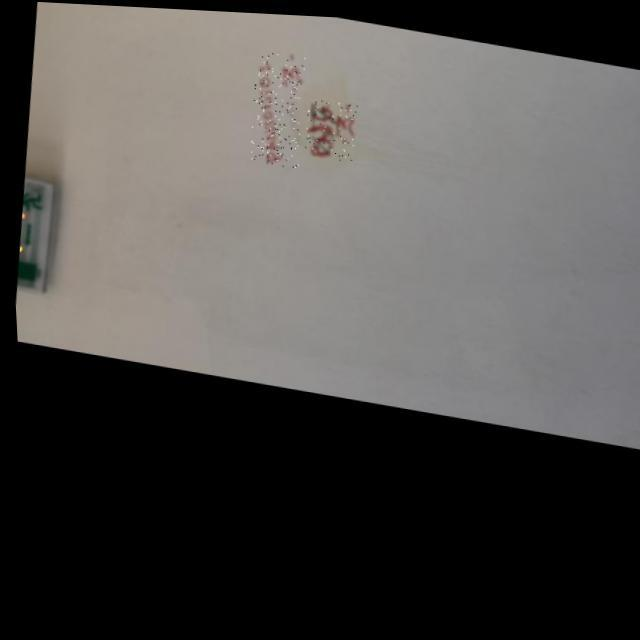-: (242, 44, 310, 166), (302, 94, 360, 160), (301, 97, 341, 154)
